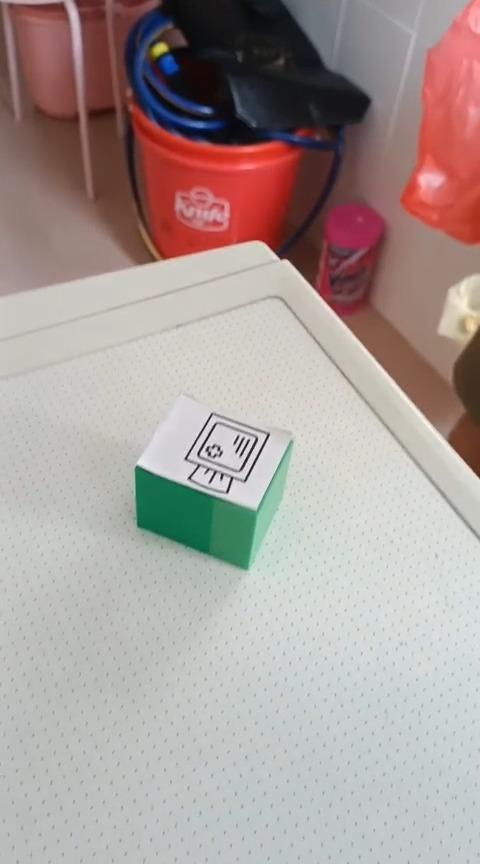Gauze: (133, 392, 294, 570)
